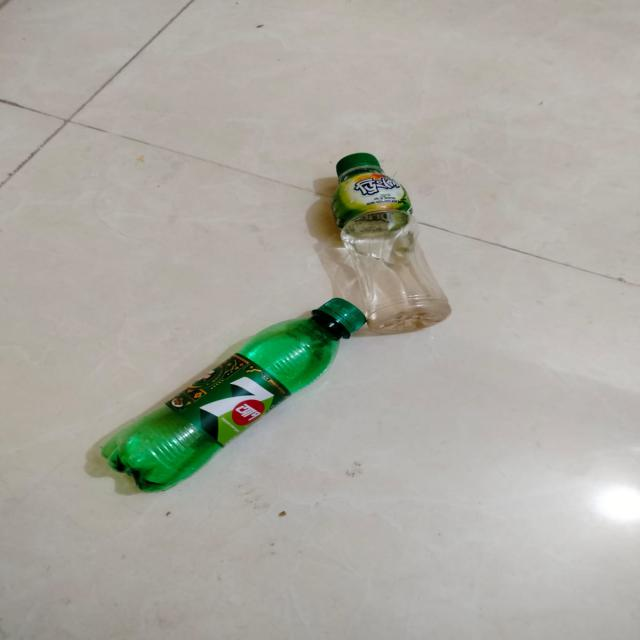plastic: (90, 298, 370, 496), (301, 151, 459, 334)
